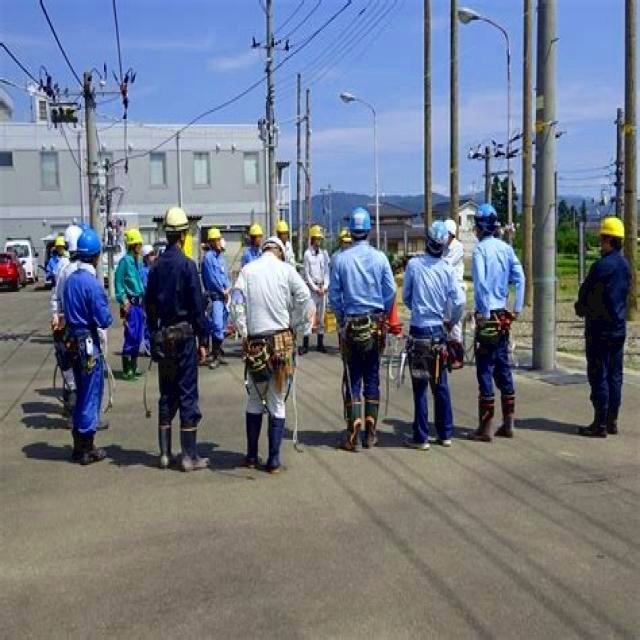Sin_Chaleco: (332, 241, 392, 313), (146, 253, 201, 325), (244, 257, 291, 332)
